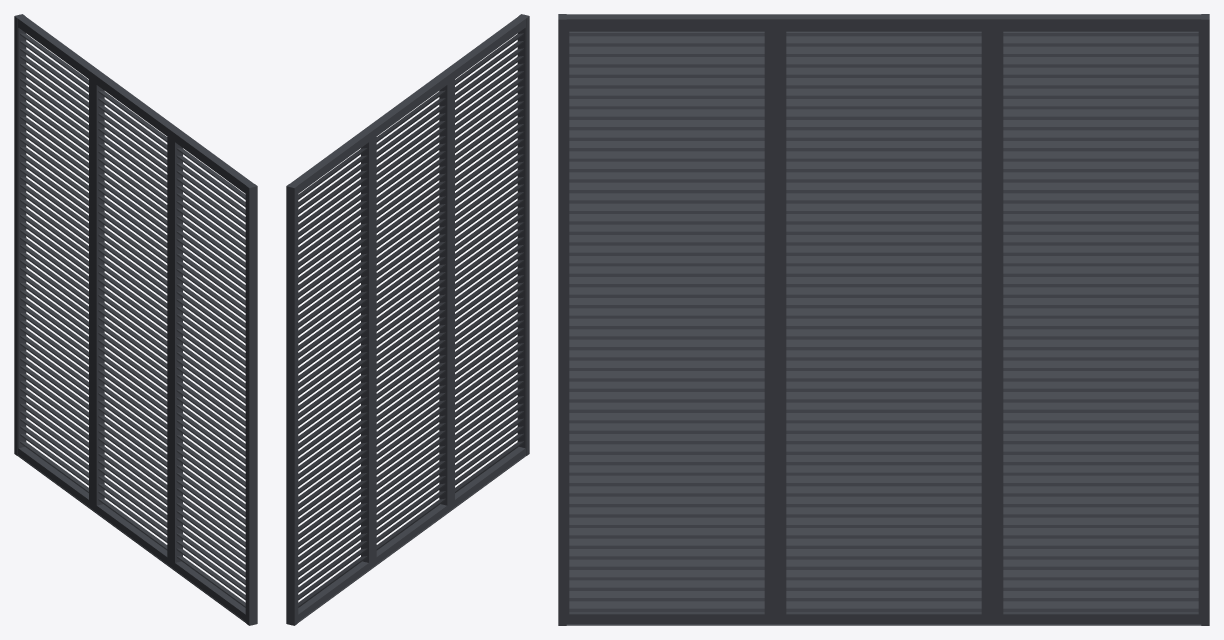
The model's file is nebbiolo_louvre_panel_right_400_250.glb.
3 renders of one model, left to right at view 1: azimuth 30°, elevation 25°; view 2: azimuth 150°, elevation 25°; view 3: azimuth 270°, elevation 25°, orthographic. The views are drawn at different scales.
Parts seen in each view (by area): view 1: louvre_panel_right_400_250; view 2: louvre_panel_right_400_250; view 3: louvre_panel_right_400_250.
Part boxes in pixels (x1,y1,x2,y2): louvre_panel_right_400_250: (14,14,257,625); louvre_panel_right_400_250: (286,14,529,625); louvre_panel_right_400_250: (558,14,1209,625).
Bounding box in the file's own units: 0.0531 × 2.5 × 2.44.
Materials: 1 (1 with a texture image).
